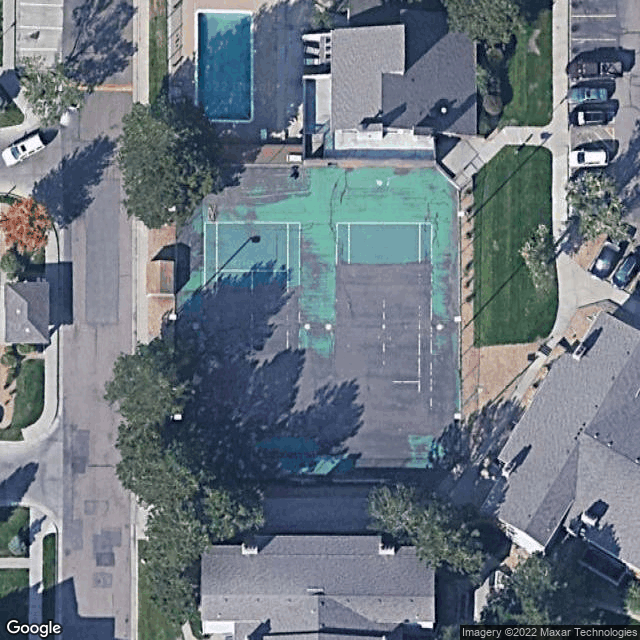Court: (335, 220, 434, 431), (203, 221, 302, 431)
